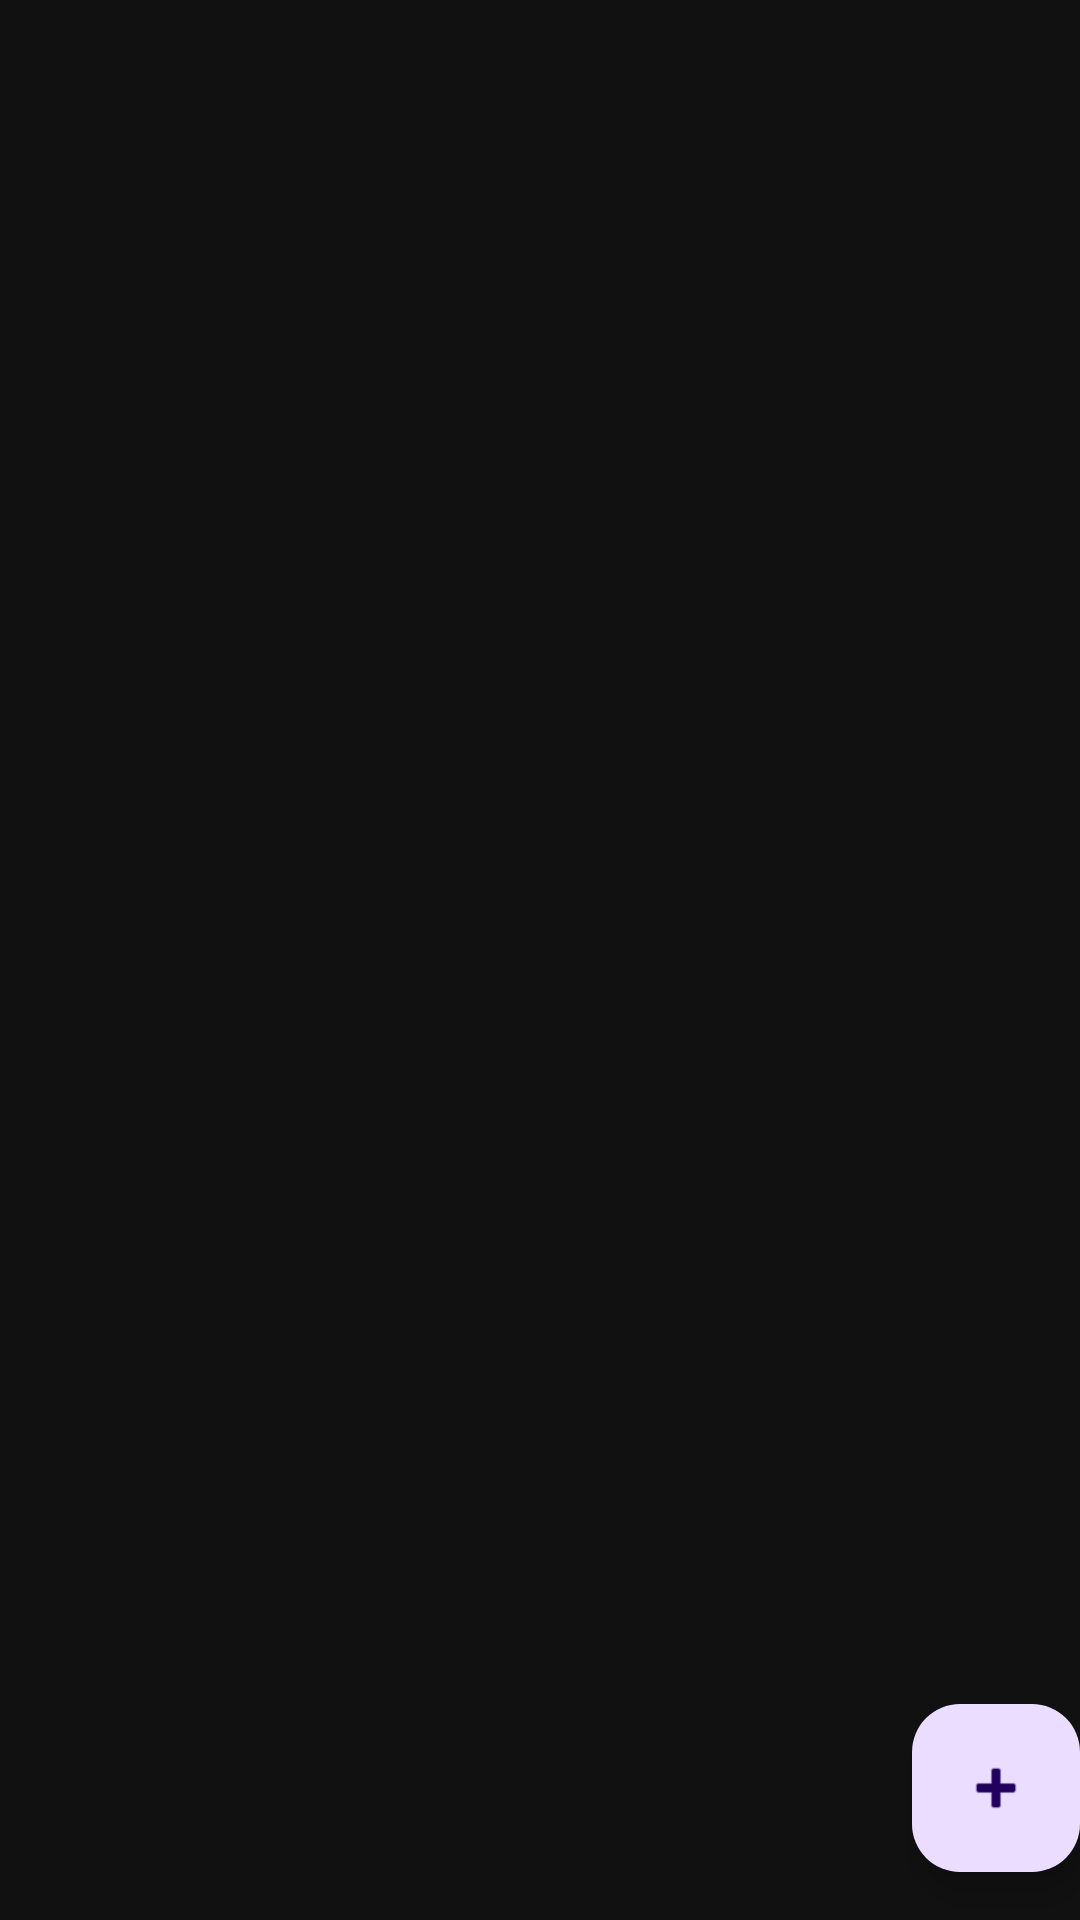

Where to tap for icons on this 1080×1920 app screen, as (x,y):
add: (996,1788)
